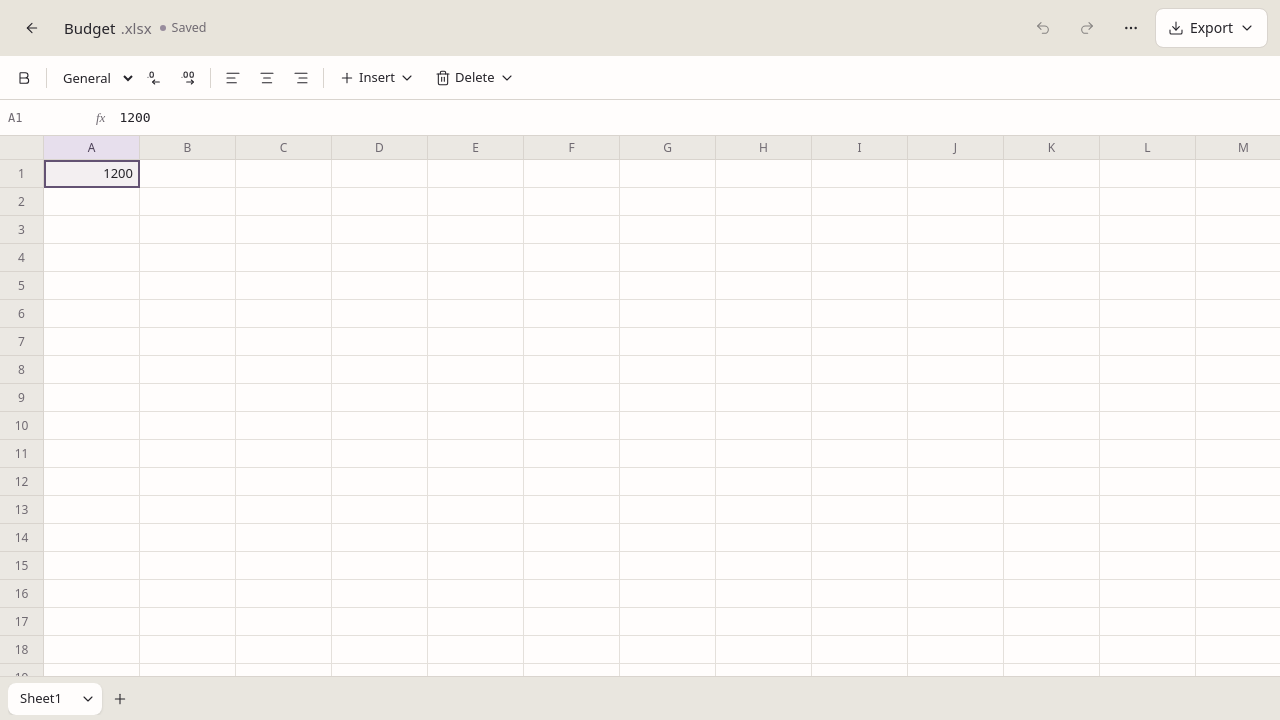
shows money once the toolbar makes a cell Money
This screenshot has width=1280, height=720.
Press the mouse on the cell "1200" at coordinates (92, 174), box [44,160,140,188]
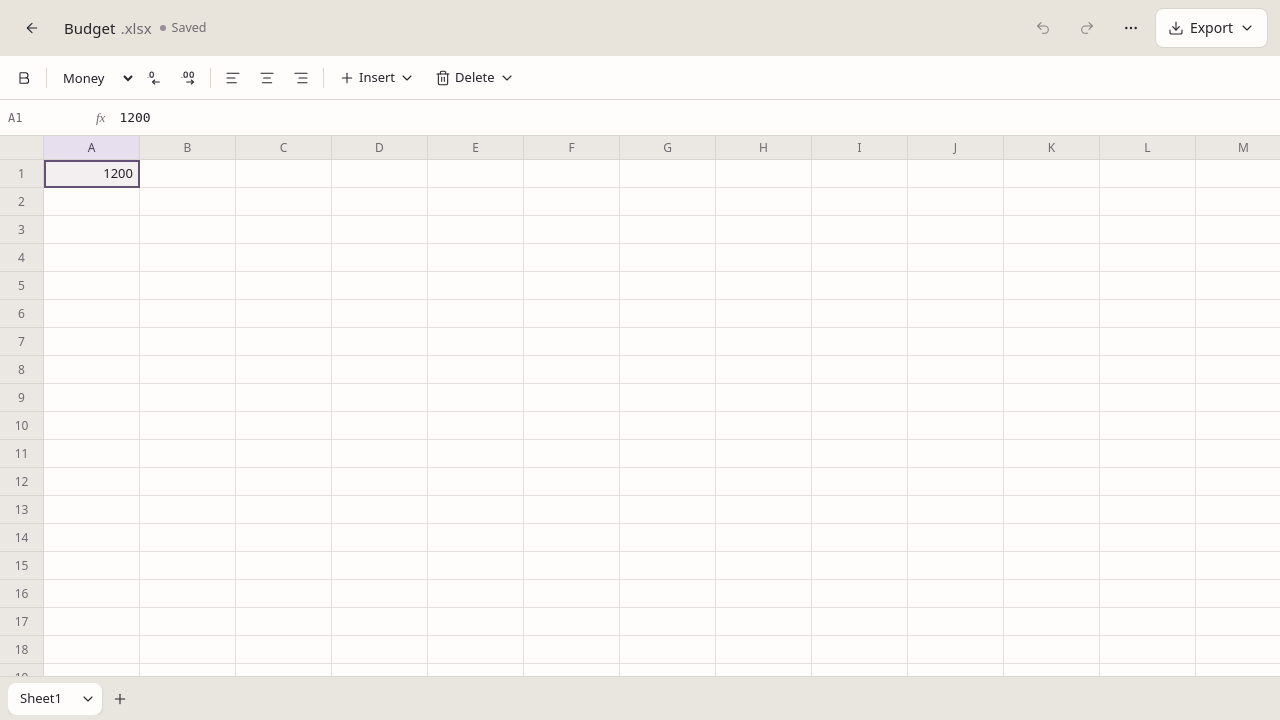
Select "Money" in the dropdown named "Number format" at coordinates (94, 78), box [53,62,136,94]
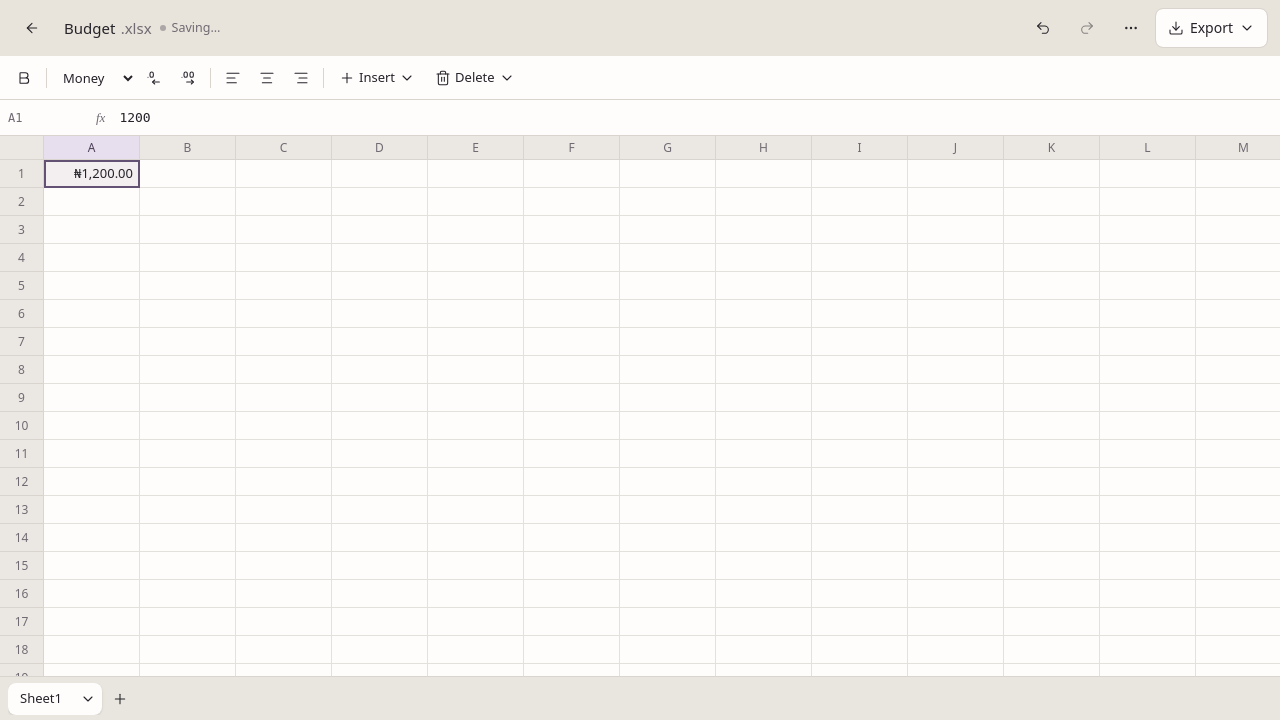
Now the cell "₦1,200.00" is shown, box [44,160,140,188]
